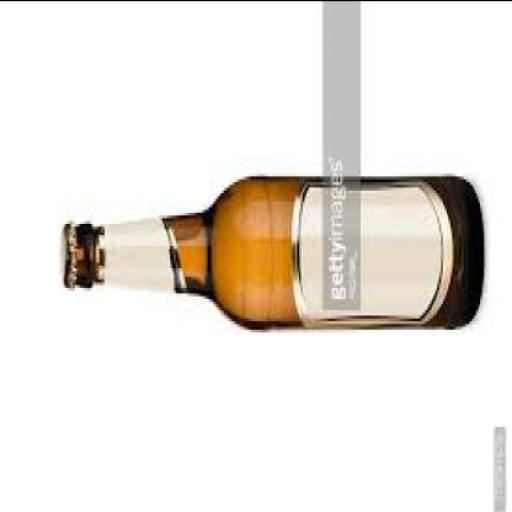glass: (72, 179, 484, 331)
metal: (58, 228, 76, 292)
